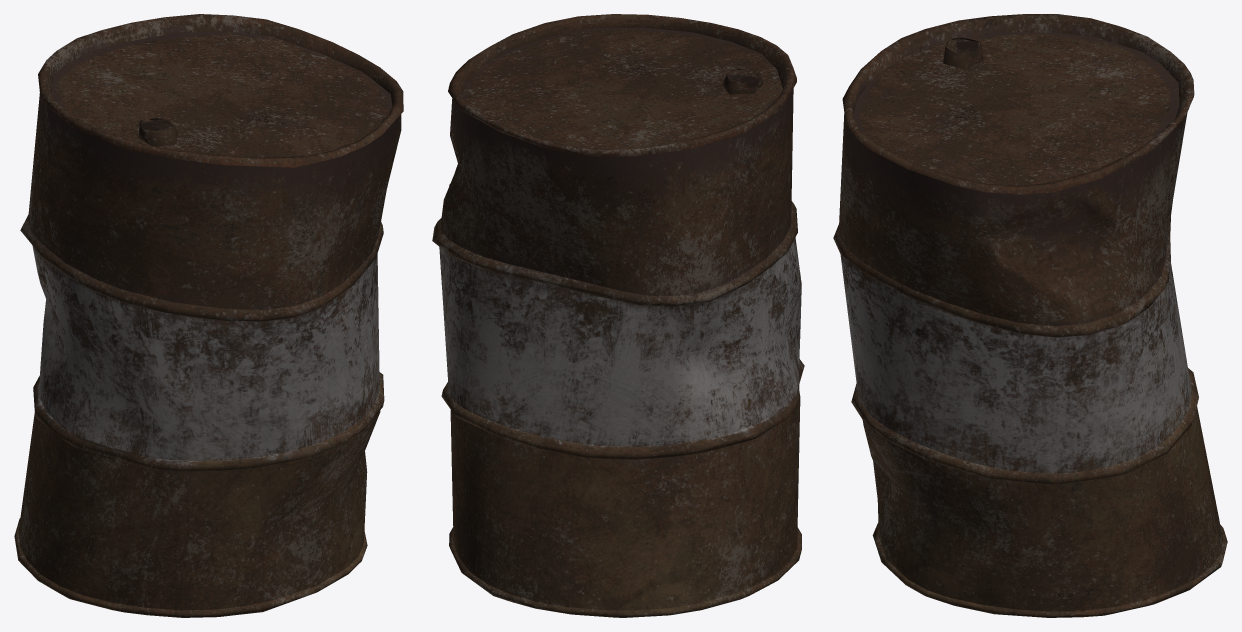
The model's file is SM_Barrel_02.fbx.
3 renders of one model, left to right at view 1: azimuth 30°, elevation 25°; view 2: azimuth 150°, elevation 25°; view 3: azimuth 270°, elevation 25°, orthographic. The views are drawn at different scales.
Parts seen in each view (by area): view 1: SM_Barrel_02_LOD0; view 2: SM_Barrel_02_LOD0; view 3: SM_Barrel_02_LOD0.
Part boxes in pixels (x1,y1,x2,y2): SM_Barrel_02_LOD0: (14,14,403,617); SM_Barrel_02_LOD0: (432,14,804,617); SM_Barrel_02_LOD0: (833,14,1227,617).
Bounding box in the file's own units: 68.76 × 71.23 × 93.04.
Materials: 1 (1 with a texture image).
